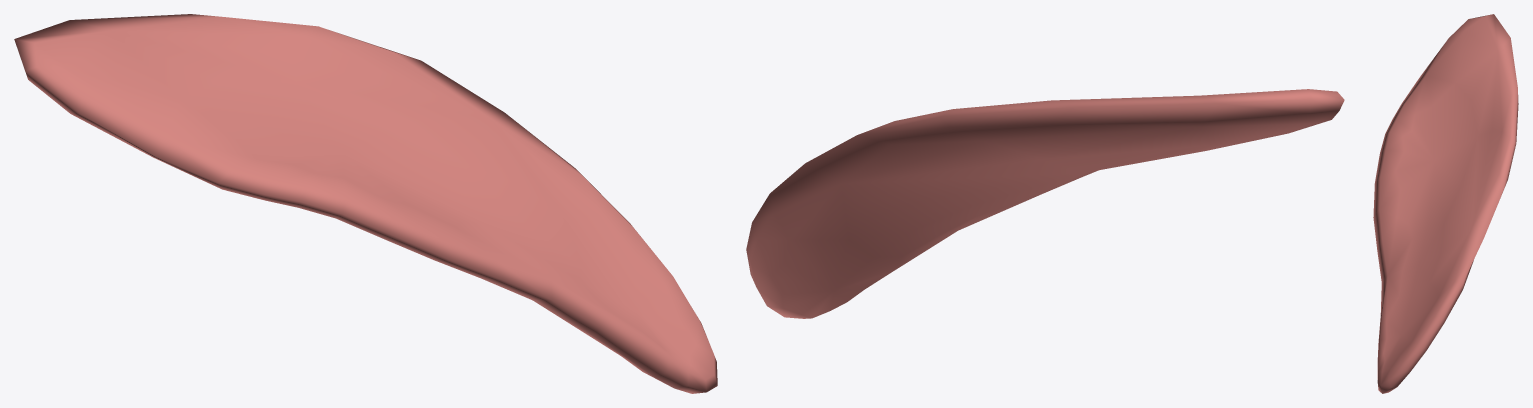
The picture shows the model from 3 angles, left to right: view 1: azimuth 30°, elevation 25°; view 2: azimuth 150°, elevation 25°; view 3: azimuth 270°, elevation 25°; orthographic projection. The views are drawn at different scales.
Visible parts, largest first — view 1: ZA_be0a3e214aebc2e5; view 2: ZA_be0a3e214aebc2e5; view 3: ZA_be0a3e214aebc2e5.
Part boxes in pixels (box(x1,y1,x2,y2)): ZA_be0a3e214aebc2e5: box(14, 14, 717, 393); ZA_be0a3e214aebc2e5: box(746, 89, 1344, 318); ZA_be0a3e214aebc2e5: box(1373, 14, 1518, 393).
Size of the model in its own units: 0.00973 by 0.00633 by 0.00369.
